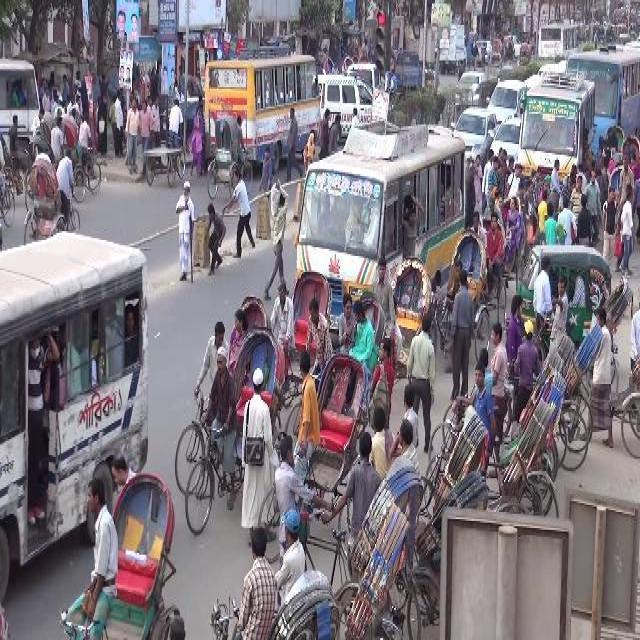Bus: (0, 229, 150, 603)
